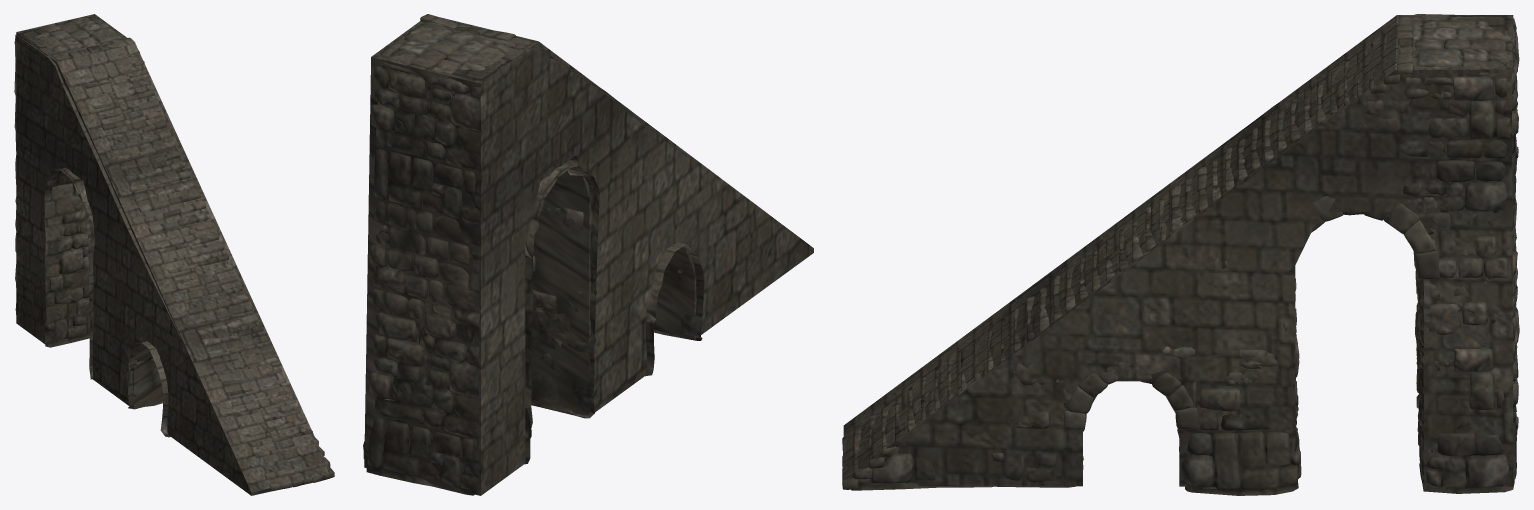
The model's file is C_Wall_Stairs.fbx.
3 renders of one model, left to right at view 1: azimuth 30°, elevation 25°; view 2: azimuth 150°, elevation 25°; view 3: azimuth 270°, elevation 25°, orthographic. The views are drawn at different scales.
Visible parts, largest first — view 1: C_Wall_Stairs_Coll, C_Wall_Stairs, C_Wall_Stairs_Base; view 2: C_Wall_Stairs_Coll, C_Wall_Stairs_Base, C_Wall_Stairs; view 3: C_Wall_Stairs_Coll, C_Wall_Stairs_Base, C_Wall_Stairs.
Part boxes in pixels (left/top/right/bottom): C_Wall_Stairs_Coll: left=16, top=14, right=330, bottom=495; C_Wall_Stairs: left=68, top=37, right=334, bottom=491; C_Wall_Stairs_Base: left=14, top=16, right=312, bottom=493; C_Wall_Stairs_Coll: left=364, top=17, right=813, bottom=495; C_Wall_Stairs_Base: left=363, top=22, right=714, bottom=495; C_Wall_Stairs: left=420, top=14, right=515, bottom=40; C_Wall_Stairs_Coll: left=843, top=15, right=1513, bottom=486; C_Wall_Stairs_Base: left=851, top=14, right=1519, bottom=495; C_Wall_Stairs: left=842, top=24, right=1440, bottom=489.
Size of what is drawn, in the model's own units: 415 by 1220 by 1766.
